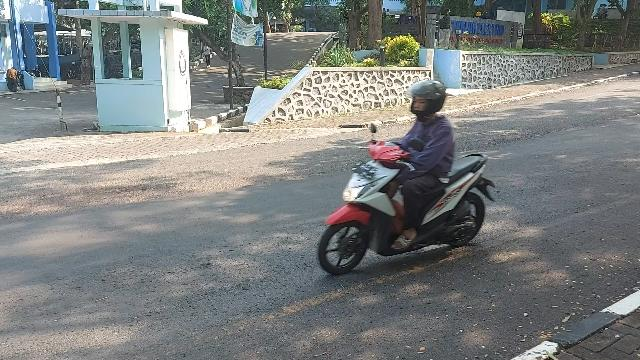helm: (406, 82, 446, 119)
motor: (319, 123, 498, 276)
